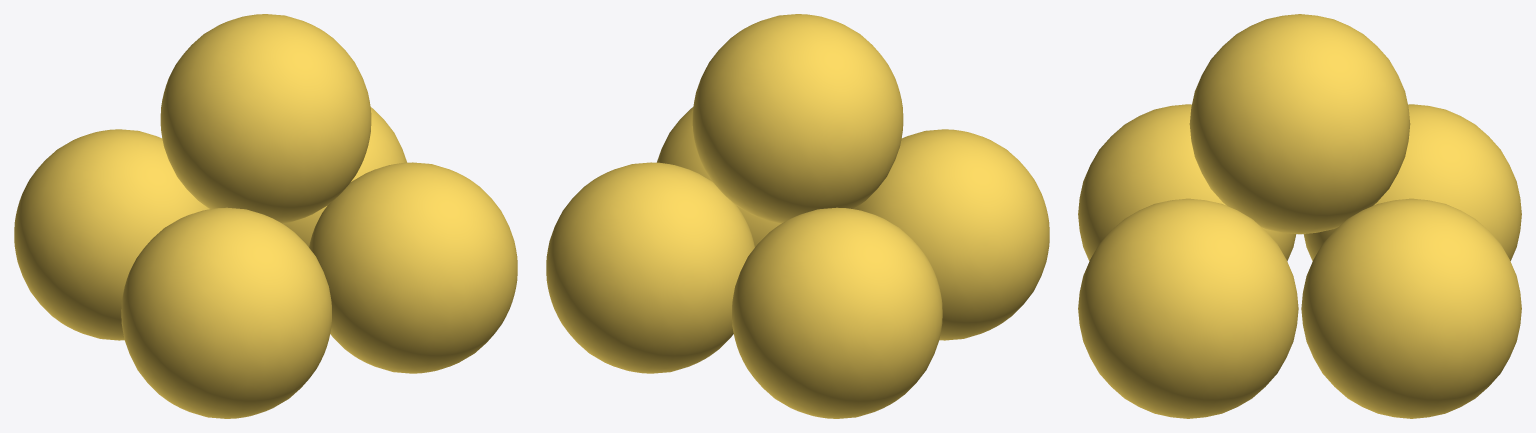
The picture shows the model from 3 angles, left to right: view 1: azimuth 30°, elevation 25°; view 2: azimuth 150°, elevation 25°; view 3: azimuth 270°, elevation 25°; orthographic projection. The views are drawn at different scales.
Visible parts, largest first — view 1: 对象001; view 2: 对象001; view 3: 对象001.
Boxes of the visible parts, x1,y1,x2,y2 form: 对象001: (14, 14, 517, 418); 对象001: (546, 14, 1049, 418); 对象001: (1078, 14, 1521, 418).
Bounding box in the file's own units: 37.45 × 31.39 × 37.45.
1 material, 1 textured.
